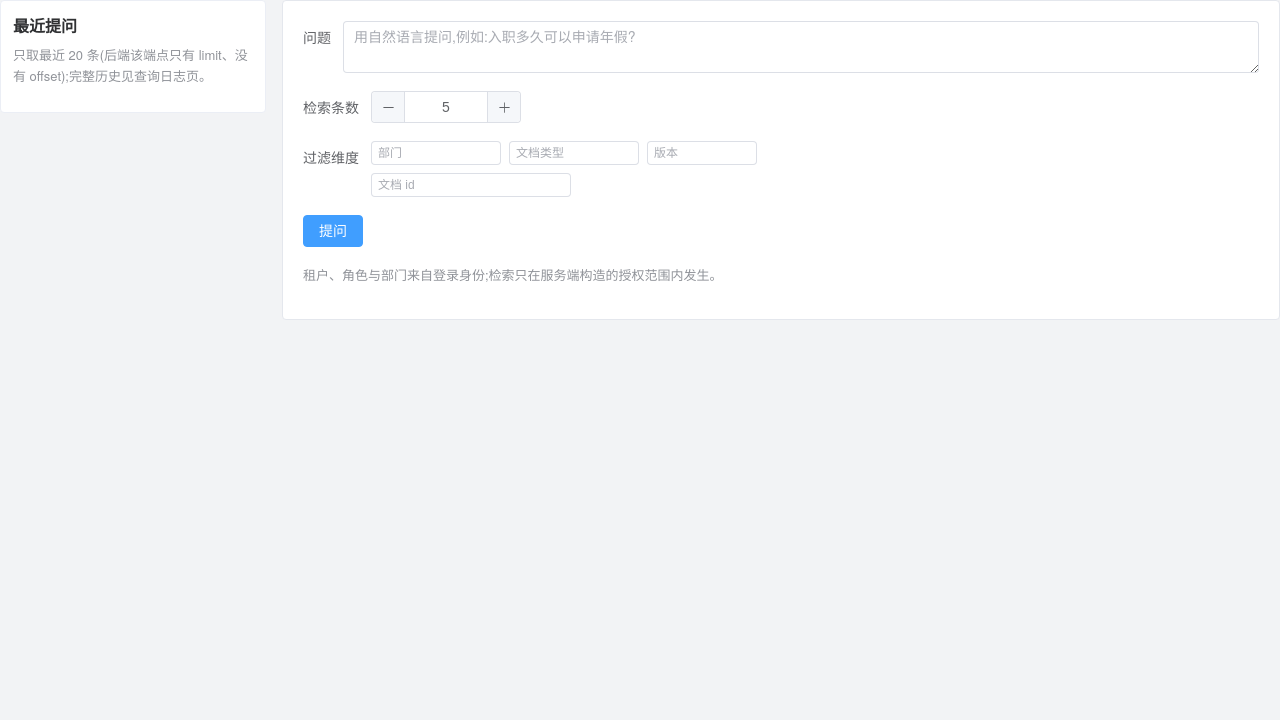
Test: 组件行为 › 问答页 › 每条引用可展开查看切片原文
Step 1. Type "年假怎么算?" into the text box with test id "chat-question" → (801, 47), box [343,21,1259,73]
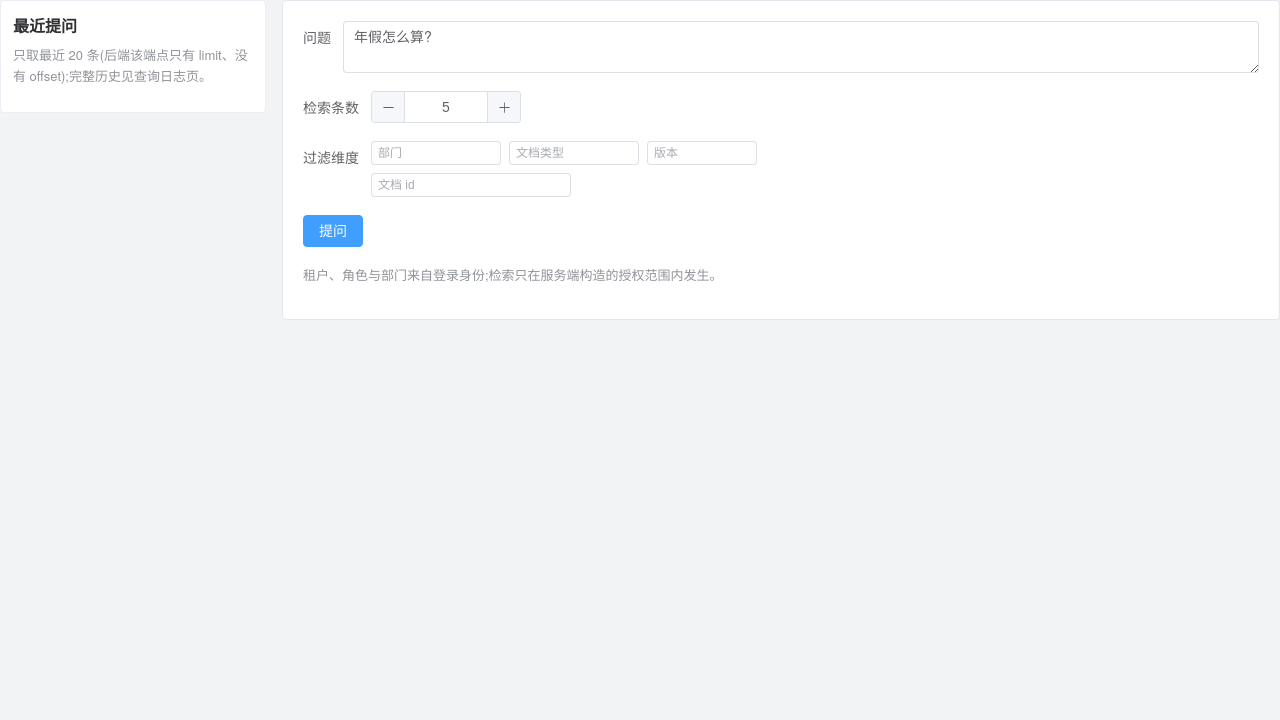
Step 2. Click the button with test id "chat-submit" → (333, 231), box [303,215,363,247]
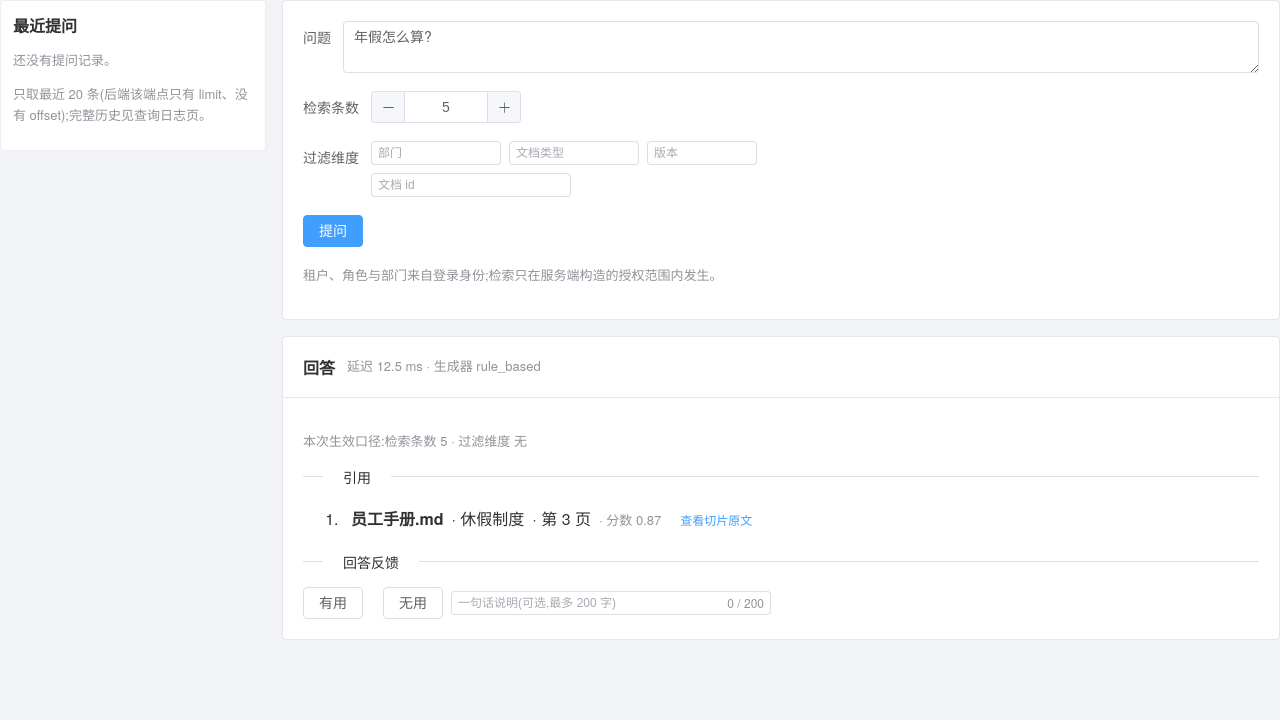
Result: the list with test id "chat-citations" is shown at [351,507,763,533]
Step 3. Click the button with test id "citation-expand-1" → (716, 521), box [669,509,763,533]
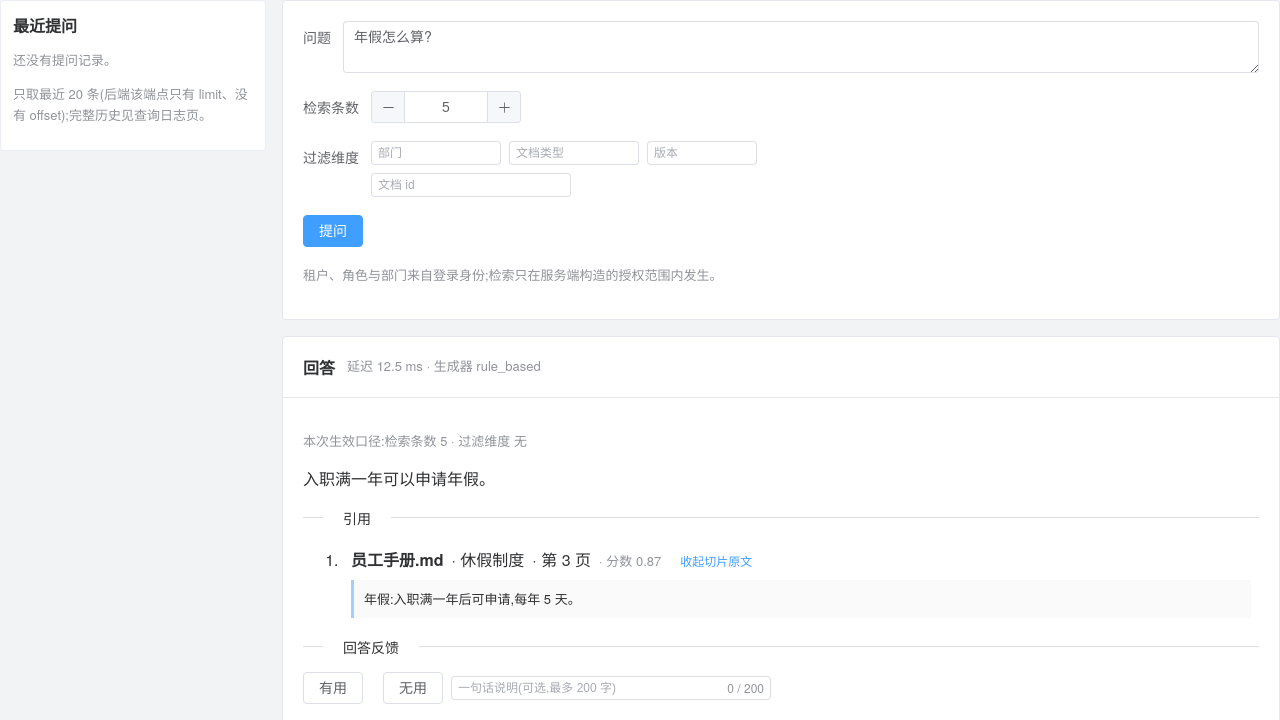
Result: the element with test id "citation-text-1" shows "入职满一年后可申请" at [364,589,581,608]
